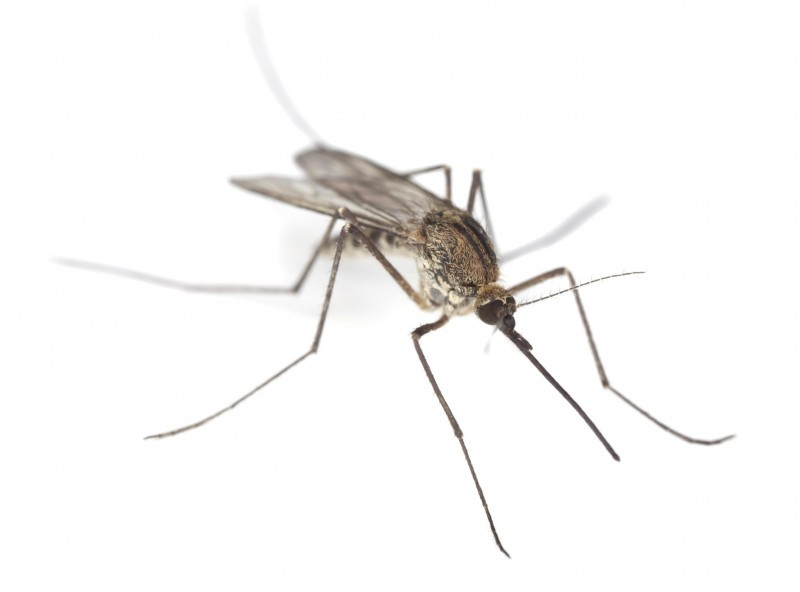mosquito: (117, 111, 769, 568)
